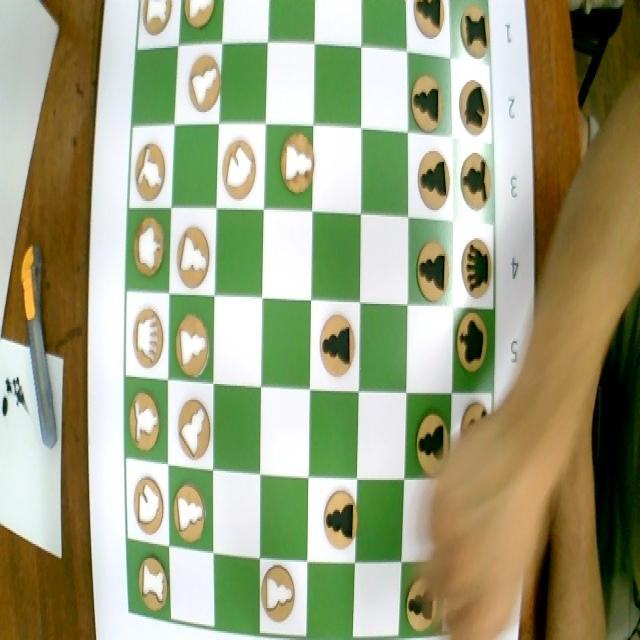chess-pieces: (276, 124, 316, 212), (316, 310, 358, 389), (169, 479, 212, 553), (410, 140, 451, 217), (218, 134, 260, 206), (133, 544, 173, 618), (414, 233, 451, 313), (454, 144, 494, 218), (320, 485, 360, 557), (413, 409, 455, 477), (124, 385, 164, 456), (172, 222, 215, 288), (258, 560, 301, 626), (172, 311, 212, 380), (174, 390, 210, 464), (453, 309, 491, 379), (400, 573, 440, 638), (130, 300, 166, 372), (458, 236, 494, 308), (407, 71, 449, 130), (133, 137, 170, 202), (188, 57, 226, 120), (132, 210, 166, 280), (131, 470, 165, 536), (455, 0, 490, 64), (458, 78, 490, 138), (411, 0, 449, 46), (142, 0, 177, 41), (181, 0, 218, 37)
